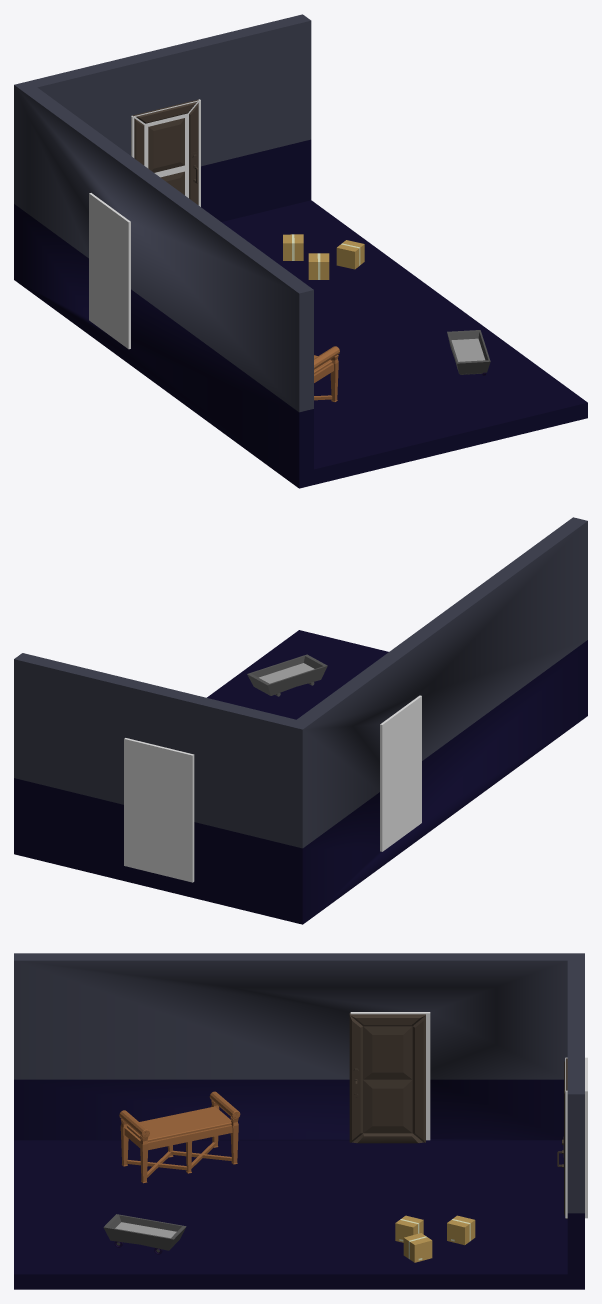
File: room2-new.fbx
The picture shows the model from 3 angles, top to bottom: view 1: azimuth 30°, elevation 25°; view 2: azimuth 150°, elevation 25°; view 3: azimuth 270°, elevation 25°; orthographic projection.
Visible parts, largest first — view 1: Cube.003, Cube.001, Door1, Cube, Cylinder.002, Node.001, Cube.005; view 2: Cube.003, Cube, Cube.001, Cylinder.002; view 3: Cube.003, Door1.001, Node.001, Cylinder.002, Cube, Cube.001, Cube.005, Cube.004, Cube.002, Door1.
Part boxes in pixels (box(x1,y1,x2,y2)): Cube.003: box(14, 14, 587, 488); Cube.001: box(89, 193, 130, 349); Door1: box(132, 99, 198, 204); Cube: box(131, 99, 200, 206); Cylinder.002: box(447, 330, 490, 375); Node.001: box(314, 346, 339, 402); Cube.005: box(336, 240, 364, 269); Cube.003: box(14, 517, 587, 924); Cube: box(124, 738, 194, 882); Cube.001: box(380, 695, 421, 851); Cylinder.002: box(247, 654, 327, 696); Cube.003: box(14, 953, 584, 1289); Door1.001: box(349, 1013, 425, 1143); Node.001: box(119, 1091, 240, 1183); Cylinder.002: box(103, 1214, 186, 1254); Cube: box(565, 1057, 587, 1218); Cube.001: box(350, 1012, 430, 1140); Cube.005: box(403, 1233, 432, 1262); Cube.004: box(447, 1215, 475, 1245); Cube.002: box(395, 1215, 423, 1242); Door1: box(557, 1058, 567, 1218).
Size of the model in its own units: 1381 by 1059 by 2356.
